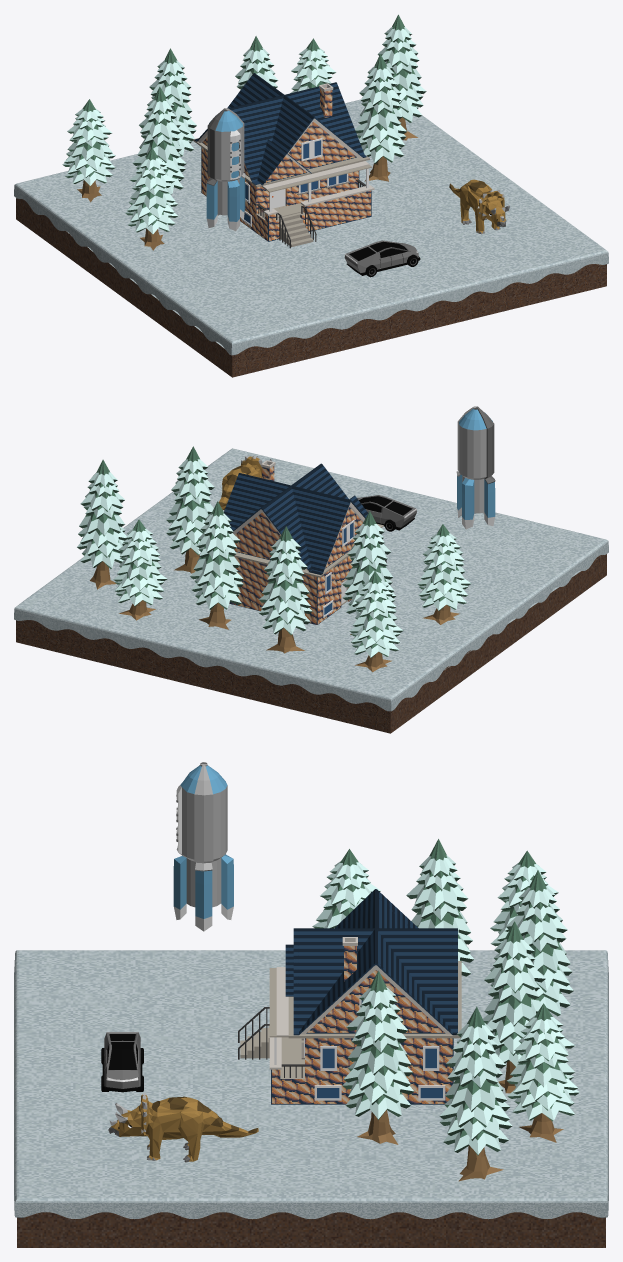
3 views of the same model, one above another, from view 1: azimuth 30°, elevation 25°; view 2: azimuth 150°, elevation 25°; view 3: azimuth 270°, elevation 25° (orthographic). The views are drawn at different scales.
Parts seen in each view (by area): view 1: Cube.003, Cube.430, OBJRANDOM_ROCKETSHIP, ANIMAL_Triceratops, VEHICLES_CYBERTRUCK; view 2: Cube.003, Cube.430, OBJRANDOM_ROCKETSHIP, VEHICLES_CYBERTRUCK, ANIMAL_Triceratops; view 3: Cube.003, Cube.430, OBJRANDOM_ROCKETSHIP, ANIMAL_Triceratops, VEHICLES_CYBERTRUCK.
Boxes of the visible parts, <box> form: Cube.003: <box>14,14,608,377</box>; Cube.430: <box>193,73,374,248</box>; OBJRANDOM_ROCKETSHIP: <box>206,108,245,231</box>; ANIMAL_Triceratops: <box>449,179,509,234</box>; VEHICLES_CYBERTRUCK: <box>344,240,420,277</box>; Cube.003: <box>14,446,608,733</box>; Cube.430: <box>224,460,386,624</box>; OBJRANDOM_ROCKETSHIP: <box>456,406,495,529</box>; VEHICLES_CYBERTRUCK: <box>357,495,416,531</box>; ANIMAL_Triceratops: <box>218,456,271,510</box>; Cube.003: <box>14,839,608,1247</box>; Cube.430: <box>238,889,461,1104</box>; OBJRANDOM_ROCKETSHIP: <box>173,762,233,931</box>; ANIMAL_Triceratops: <box>108,1093,258,1162</box>; VEHICLES_CYBERTRUCK: <box>101,1032,143,1092</box>.
Bounding box in the file's own units: 4040 × 2303 × 4040.
34 materials, 4 textured.
